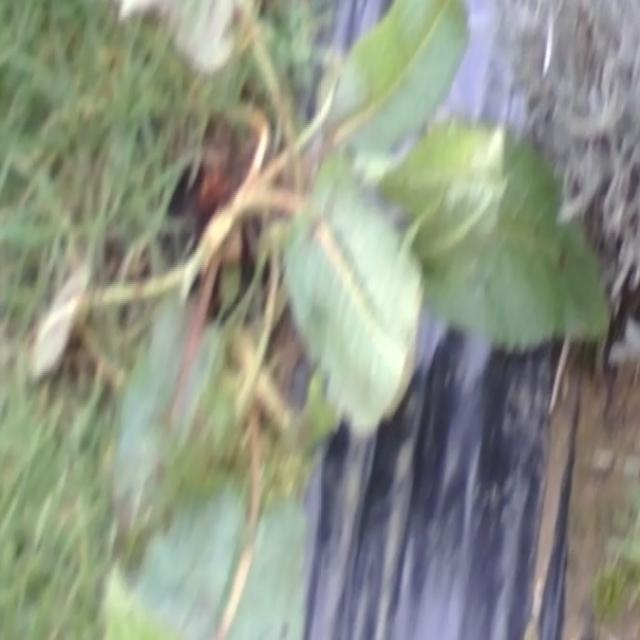organic waste: (57, 0, 640, 447)
